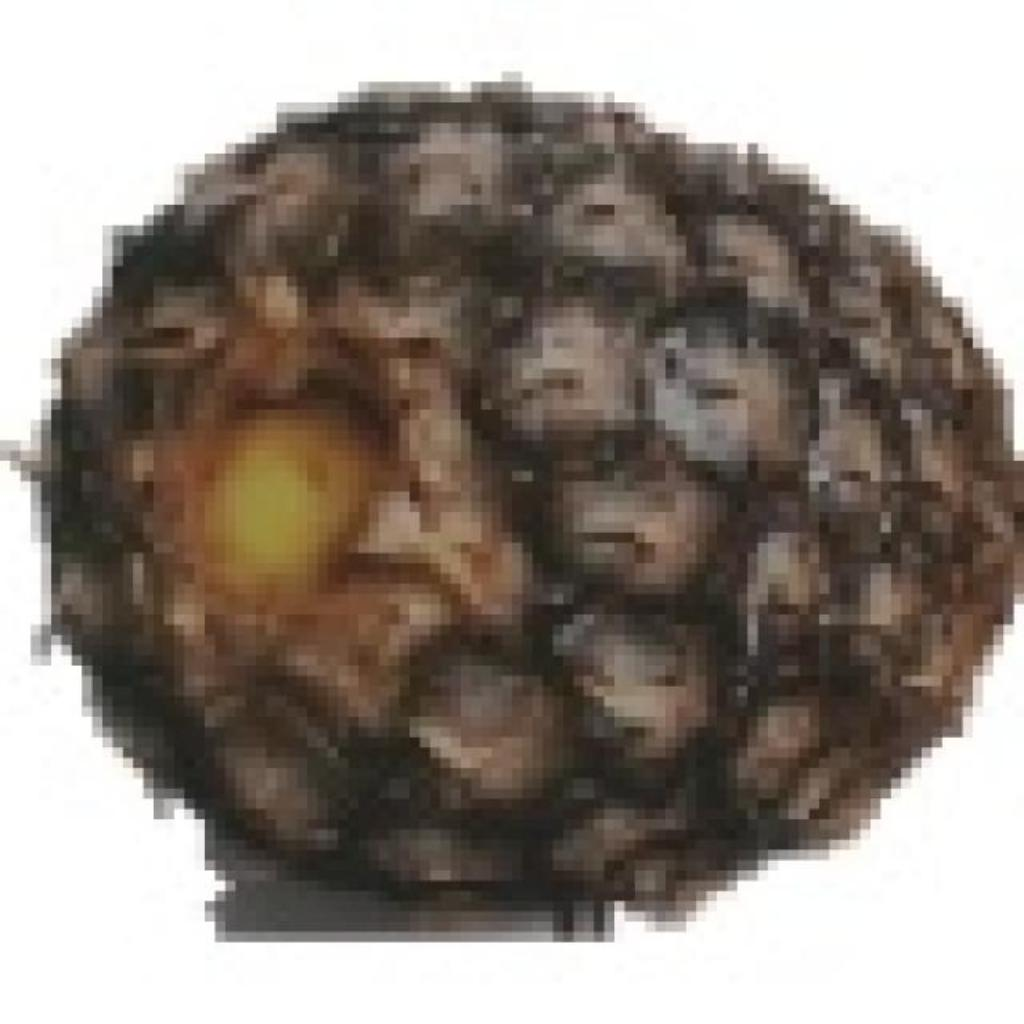pineapple: (72, 72, 1024, 911)
